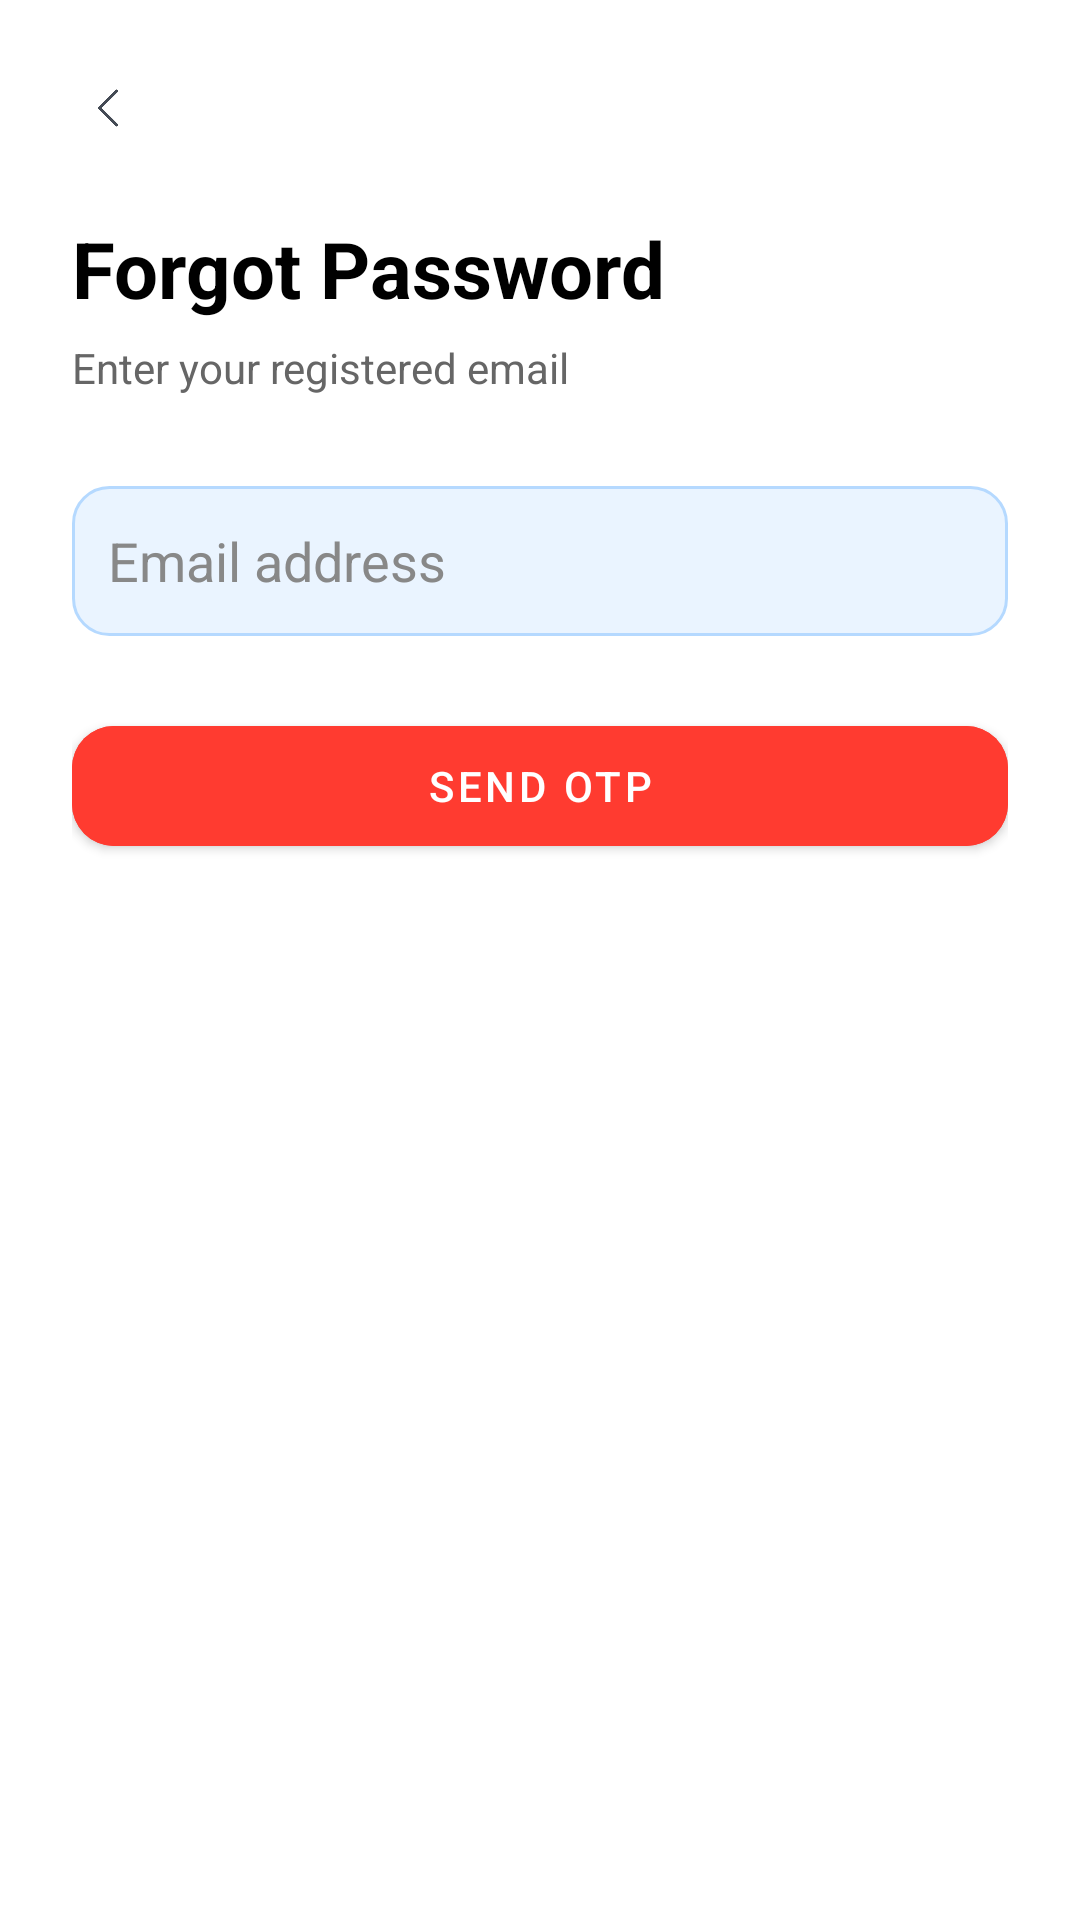

Named icons in this screenshot (1080 x 1920) and their centers, (x=x, y=y):
Back: (x=108, y=108)
